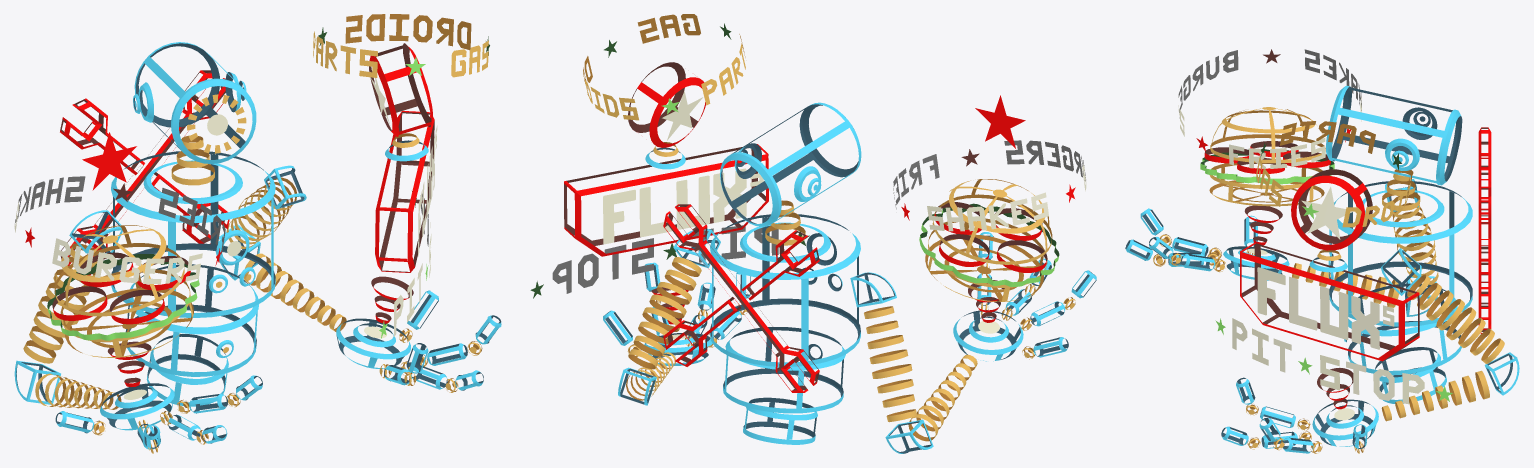
File: fluxs-transformed.glb
The picture shows the model from 3 angles, left to right: view 1: azimuth 30°, elevation 25°; view 2: azimuth 150°, elevation 25°; view 3: azimuth 270°, elevation 25°; orthographic projection. The views are drawn at different scales.
Parts seen in each view (by area): view 1: Object_3, Object_2; view 2: Object_3, Object_2; view 3: Object_3, Object_2.
Boxes of the visible parts, x1,y1,x2,y2 form: Object_3: (14, 31, 501, 453); Object_2: (15, 14, 501, 452); Object_3: (564, 43, 1096, 453); Object_2: (530, 14, 1096, 453); Object_3: (1125, 85, 1519, 453); Object_2: (1125, 49, 1512, 452).
Bounding box in the file's own units: 1.98 × 1.42 × 1.59.
Materials: 2 (2 with a texture image).
